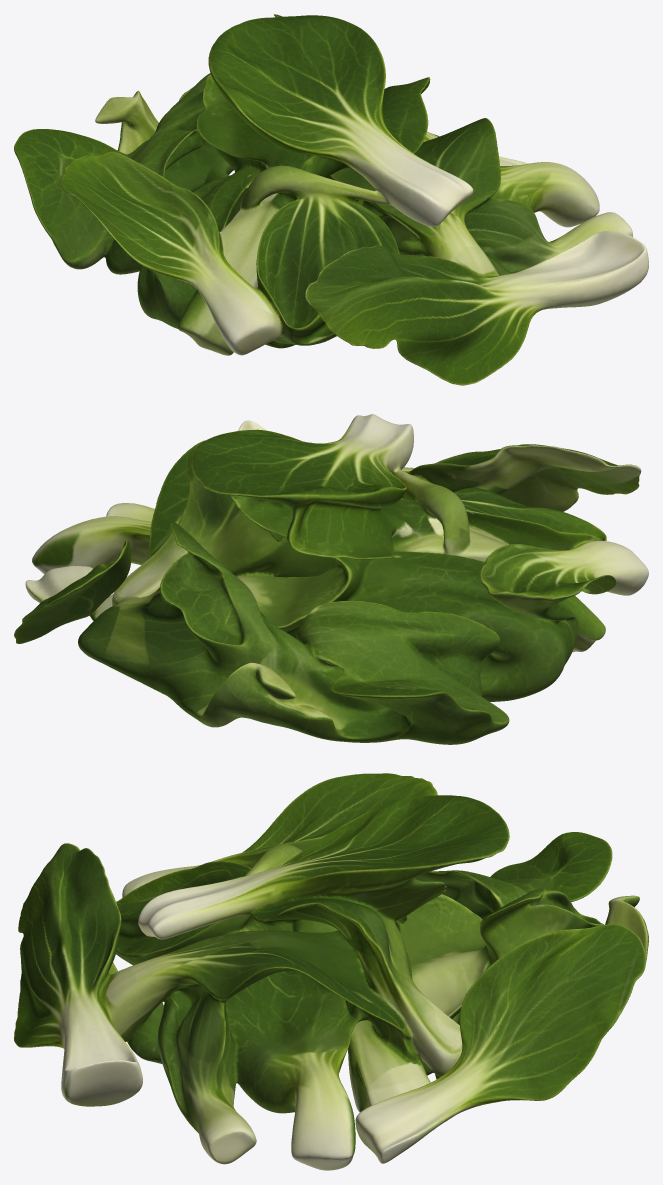
The model's file is bok_choy.fbx.
3 renders of one model, top to bottom at view 1: azimuth 30°, elevation 25°; view 2: azimuth 150°, elevation 25°; view 3: azimuth 270°, elevation 25°, orthographic. The views are drawn at different scales.
Parts seen in each view (by area): view 1: Mesh_0; view 2: Mesh_0; view 3: Mesh_0.
Part boxes in pixels (bbox=[...]): Mesh_0: bbox=[14, 14, 648, 385]; Mesh_0: bbox=[14, 414, 648, 744]; Mesh_0: bbox=[14, 773, 648, 1170].
Bounding box in the file's own units: 189 × 76.37 × 190.
Materials: 1 (1 with a texture image).
